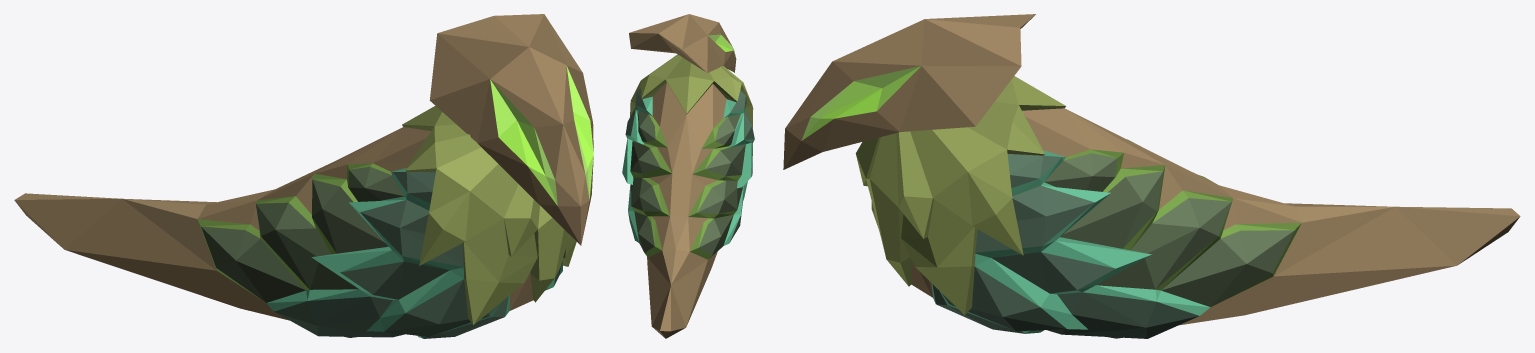
File: bird.gltf
3 renders of one model, left to right at view 1: azimuth 30°, elevation 25°; view 2: azimuth 150°, elevation 25°; view 3: azimuth 270°, elevation 25°, orthographic. The views are drawn at different scales.
Visible parts, largest first — view 1: Bird.001; view 2: Bird.001; view 3: Bird.001.
Boxes of the visible parts, <box> form: Bird.001: <box>14,14,593,338</box>; Bird.001: <box>622,14,754,338</box>; Bird.001: <box>783,14,1520,338</box>.
Bounding box in the file's own units: 0.1645 × 0.1626 × 0.3064.
Materials: 1 (1 with a texture image).
